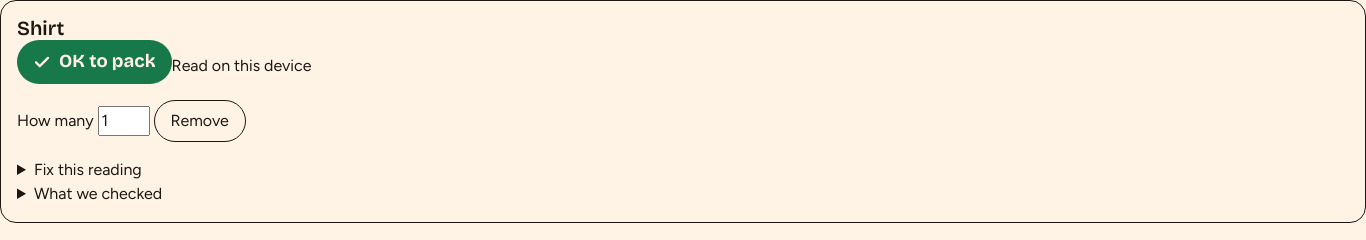
it: ItemCard › marks a count that is not 1 to 99, says why, and puts back the last good count on leaving the field
Replace the text in the number field labelled "How many" with "100" at coordinates (124, 121), box 98,106 -> 150,136
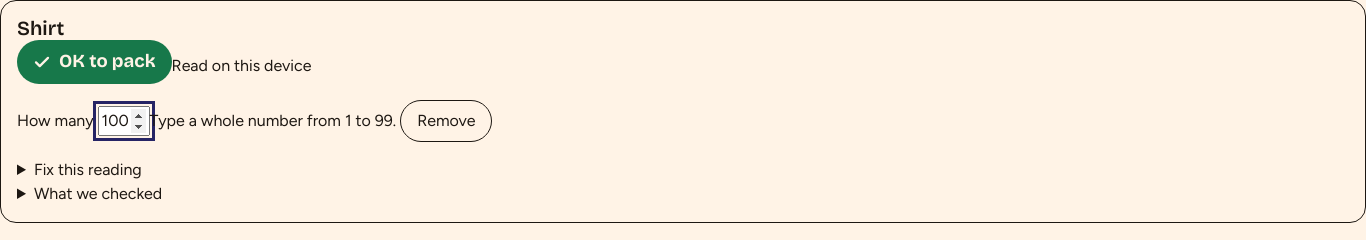
Now the number field labelled "How many" is marked as invalid, box 98,106 -> 150,136
Press Tab
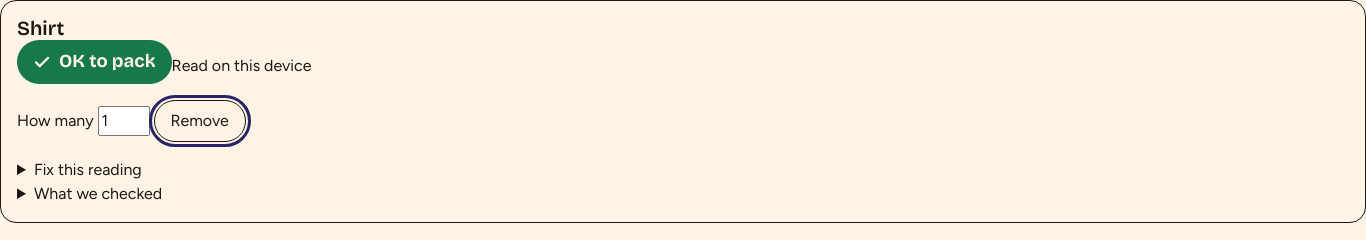
Now the number field labelled "How many" holds "1", box 98,106 -> 150,136
Now the text "Type a whole number from 1 to 99." is gone
